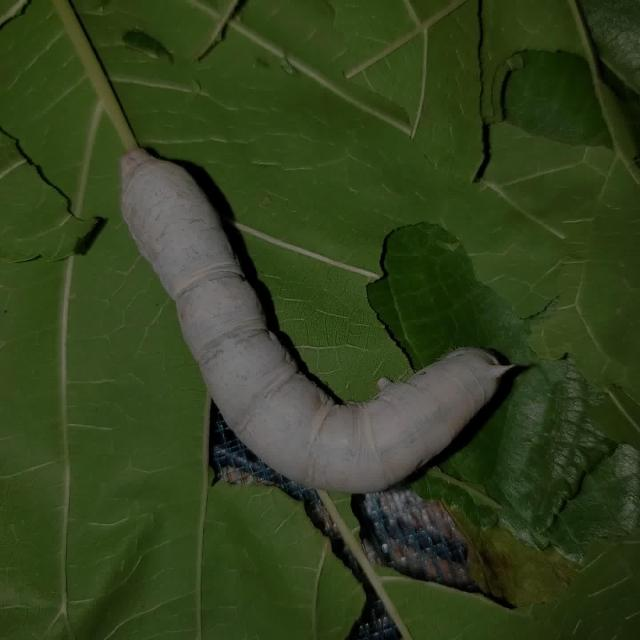Healthy: (95, 116, 563, 524)
